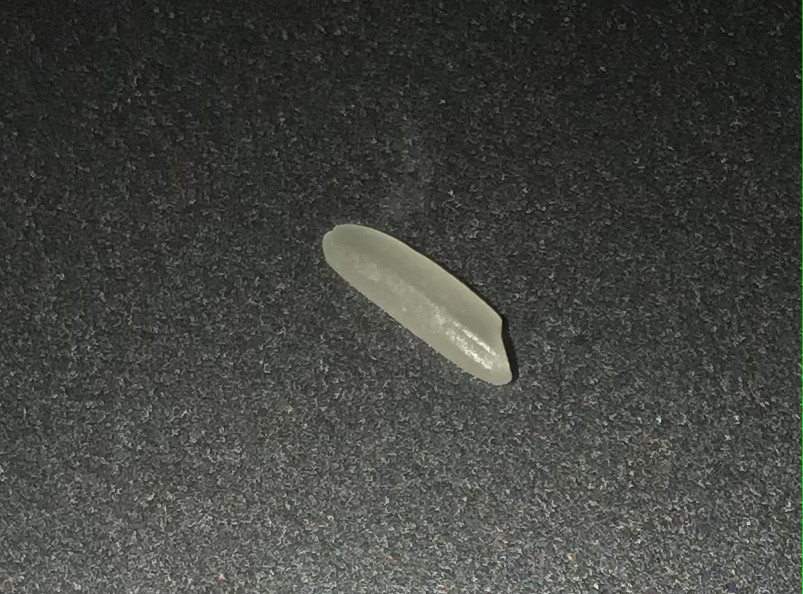Gao Thom My: (305, 208, 523, 391)
